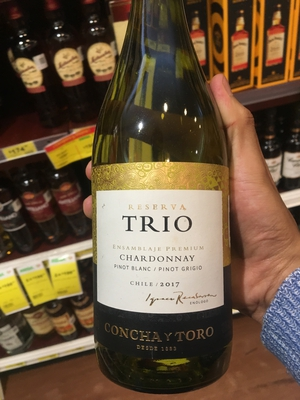trio chardonnay: (86, 21, 243, 395)
